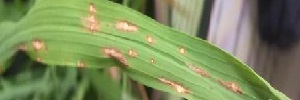RiceBlast: (99, 43, 140, 73), (215, 70, 249, 100), (156, 73, 195, 98), (27, 37, 54, 63), (111, 16, 143, 37), (85, 1, 103, 38), (174, 43, 189, 57)
